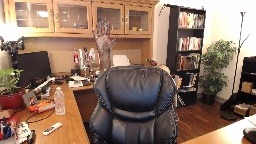Mano_aperta: (89, 19, 119, 53)
